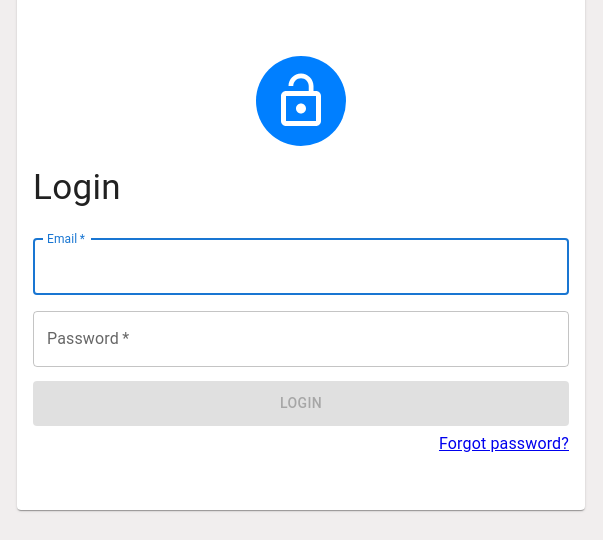
it: <Login /> › should show an error when the email input element losses focus if the input is not a valid email address
Type "test@test" into the field labelled "Email *".
click(301, 267); type("test@test")  # box left=33, top=239, right=569, bottom=295
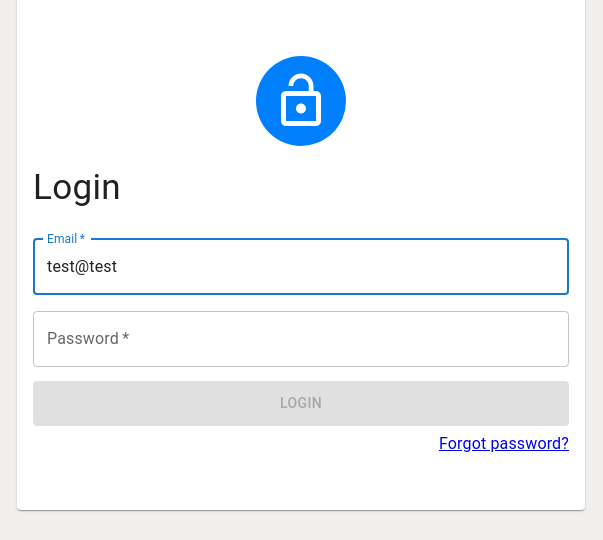
Press Tab
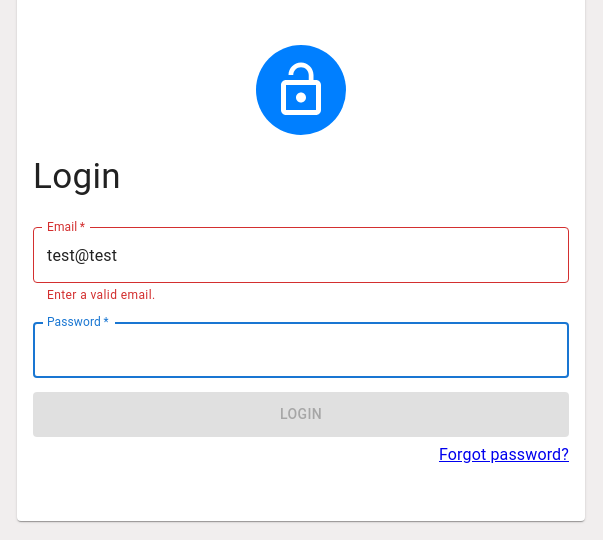
Expected: the text "Enter a valid email." is shown, left=47, top=288, right=156, bottom=302
